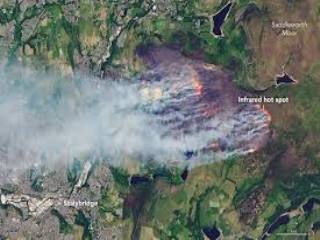smoke: (35, 68, 273, 167)
